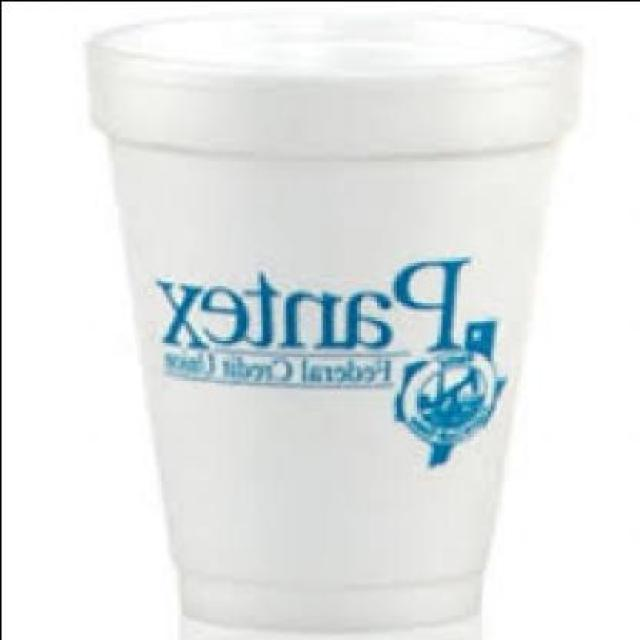PAPER: (85, 11, 589, 626)
